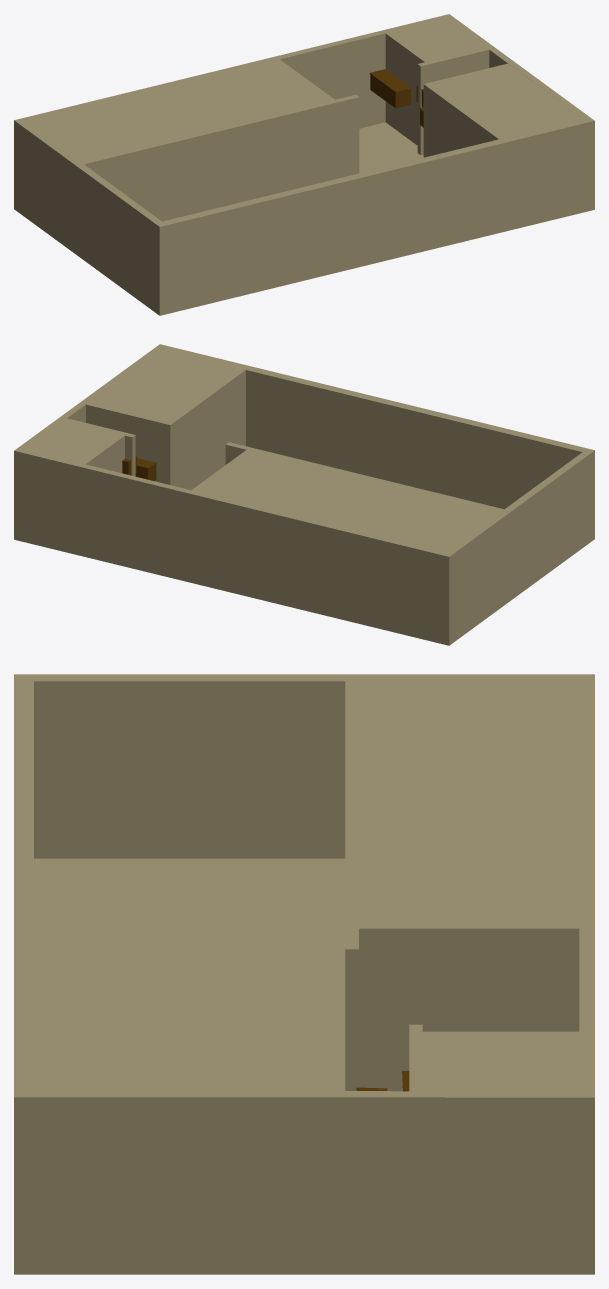
File: houseInside.fbx
3 views of the same model, one above another, from view 1: azimuth 30°, elevation 25°; view 2: azimuth 150°, elevation 25°; view 3: azimuth 270°, elevation 25° (orthographic). The views are drawn at different scales.
Visible parts, largest first — view 1: Cube.001, Cube.002; view 2: Cube.001, Cube.002; view 3: Cube.001.
Boxes of the visible parts, x1,y1,x2,y2 form: Cube.001: [14, 14, 594, 315]; Cube.002: [369, 69, 423, 127]; Cube.001: [14, 344, 594, 645]; Cube.002: [135, 458, 156, 480]; Cube.001: [14, 674, 594, 1274].
Size of the model in its own units: 739 by 144 by 429.
